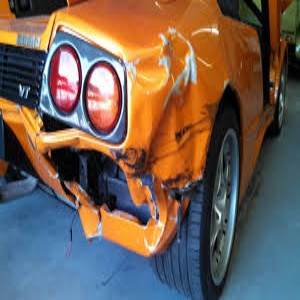bumper: (46, 138, 194, 253)
